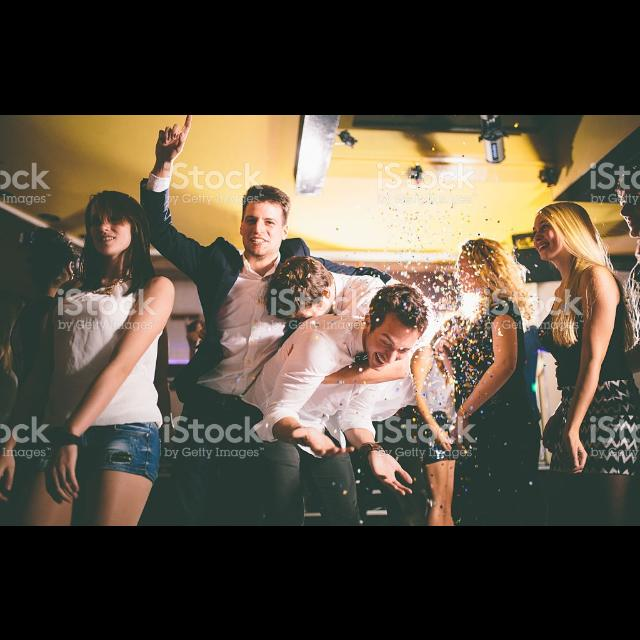head: (362, 282, 430, 371), (270, 256, 336, 320), (86, 188, 144, 258), (530, 200, 594, 262), (240, 185, 290, 258), (18, 227, 78, 285), (457, 239, 505, 293), (443, 318, 475, 350)
